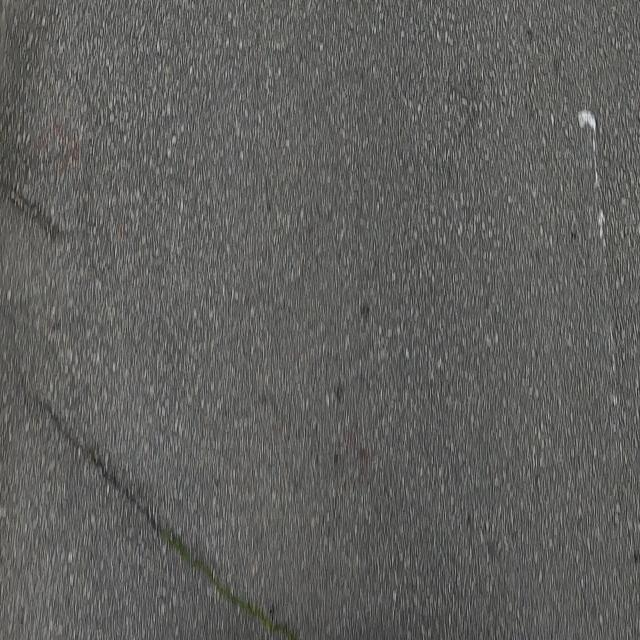Retak-Melintang: (2, 170, 66, 248)
